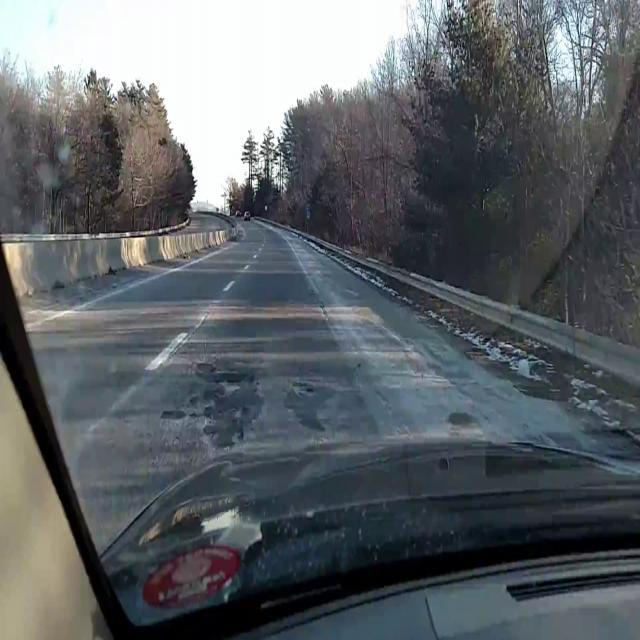Pothole: (213, 374, 251, 400), (287, 381, 314, 400)
